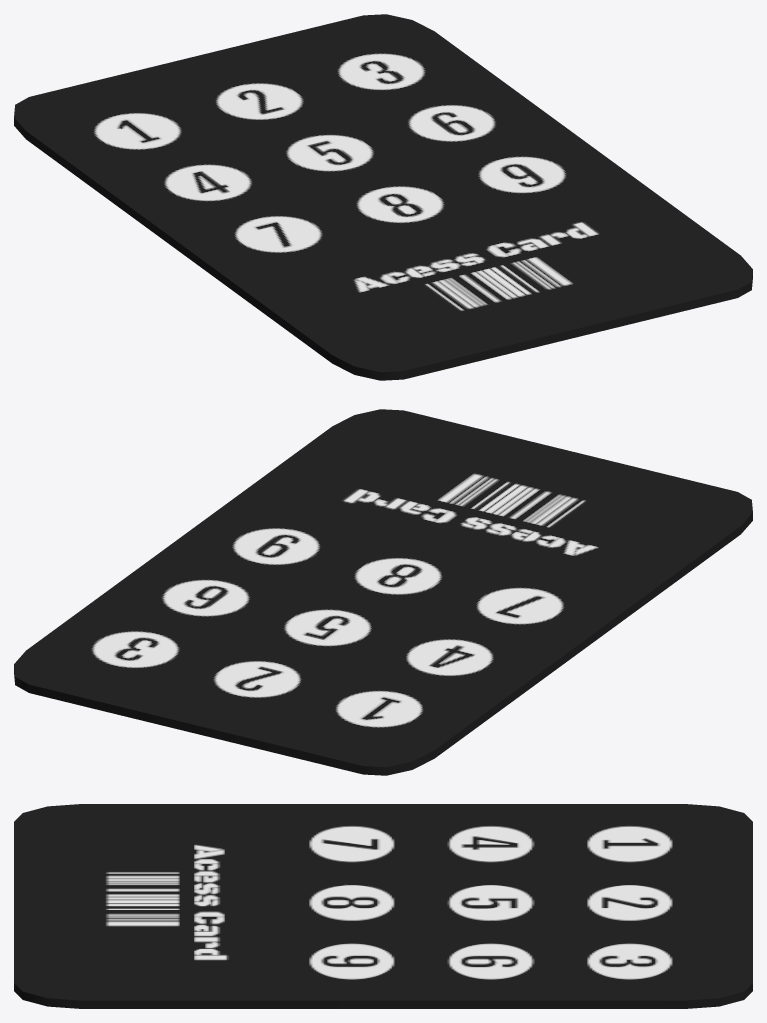
The model's file is Card.fbx.
3 renders of one model, top to bottom at view 1: azimuth 30°, elevation 25°; view 2: azimuth 150°, elevation 25°; view 3: azimuth 270°, elevation 25°, orthographic.
Parts seen in each view (by area): view 1: Card; view 2: Card; view 3: Card.
Part boxes in pixels (x1=…): Card: x1=14, y1=14, x2=752, y2=380; Card: x1=14, y1=409, x2=752, y2=775; Card: x1=14, y1=804, x2=752, y2=1008.
Size of the model in its own units: 8.8 by 0.174 by 13.97.
Materials: 1 (1 with a texture image).
